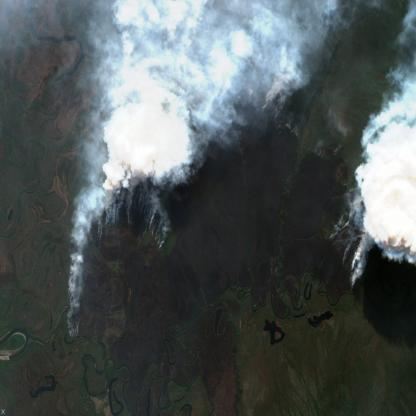fire: (61, 32, 387, 347)
